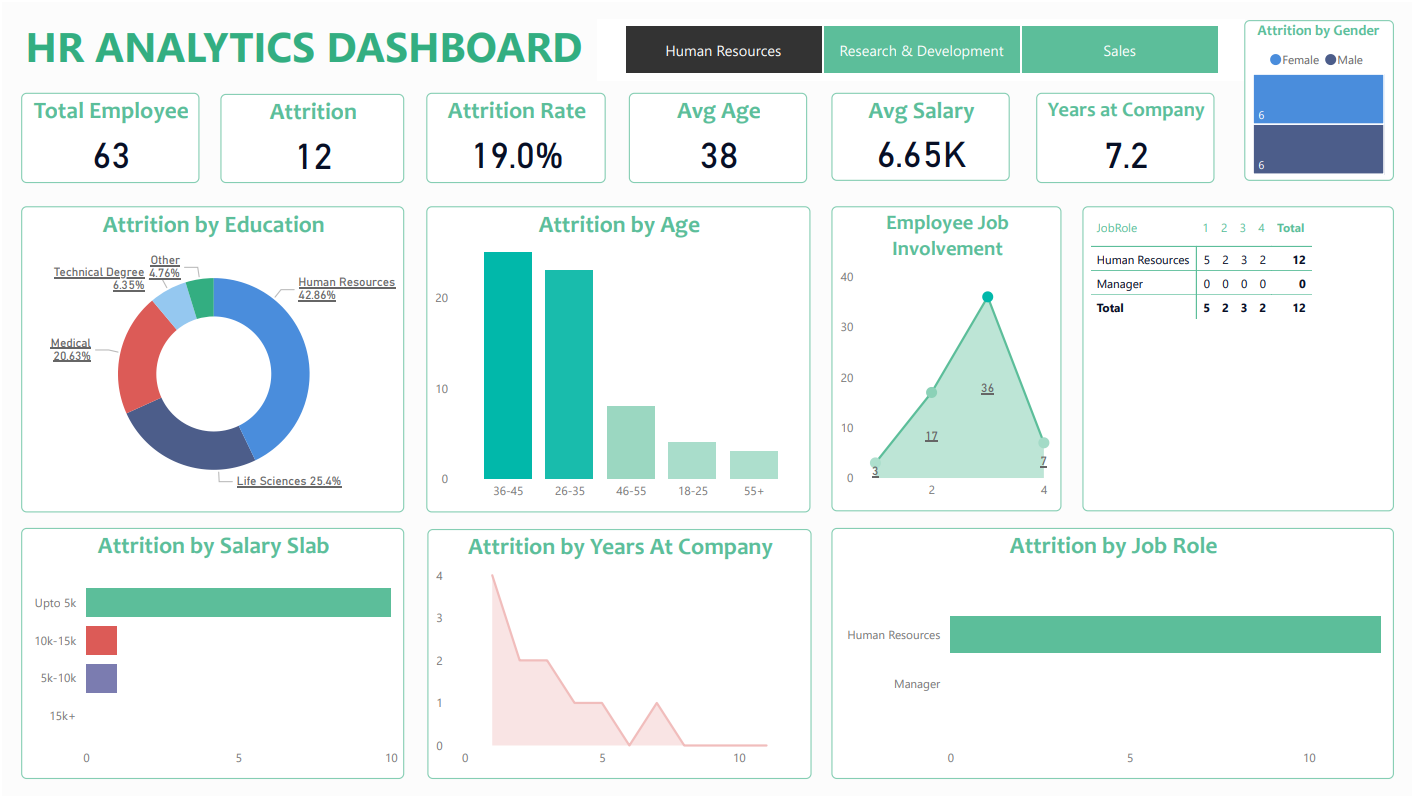

The page's visual inventory and layout, read from the dashboard file:
{"tool":"powerbi","page":{"name":"Page 1","canvas":[1280,720],"ordinal":0},"visuals":[{"type":"card","title":"Avg Salary","fields":{"Values":["Avg(HR_Analytics.MonthlyIncome)"]},"box":[752.7,81.8,162.4,80.6],"z":0},{"type":"card","title":"Avg Age","fields":{"Values":["Avg(HR_Analytics.Age)"]},"box":[569,81.8,162.4,81.8],"z":1000},{"type":"card","title":"Total Employee","fields":{"Values":["Sum(HR_Analytics.EmployeeCount)"]},"box":[16.8,81.8,162.4,81.8],"z":2000},{"type":"card","title":"Attrition","fields":{"Values":["Sum(HR_Analytics.AttritionCount)"]},"box":[198.3,82.9,166.9,80.6],"z":3000},{"type":"card","title":"Attrition Rate","fields":{"Values":["HR_Analytics.AttritionRate"]},"box":[385.3,81.8,162.4,81.8],"z":4000},{"type":"card","title":"Years at Company","fields":{"Values":["Avg(HR_Analytics.YearsAtCompany)"]},"box":[938.7,81.8,162.4,81.8],"z":5000},{"type":"textbox","box":[0,9,547.7,67.2],"z":6000},{"type":"slicer","fields":{"Values":["HR_Analytics.Department"]},"box":[539.9,14.6,588.1,56],"z":7000},{"type":"treemap","title":"Attrition by Gender","fields":{"Values":["Sum(HR_Analytics.AttritionCount)"],"Group":["HR_Analytics.Gender"]},"box":[1128,15.7,135.5,146.7],"z":8000},{"type":"donutChart","title":"Attrition by Education","fields":{"Category":["HR_Analytics.EducationField"],"Y":["CountNonNull(HR_Analytics.Attrition)"]},"box":[16.8,184.8,348.4,277.8],"z":9000},{"type":"clusteredColumnChart","title":"Attrition by Age","fields":{"Category":["HR_Analytics.AgeGroup"],"Y":["CountNonNull(HR_Analytics.Attrition)"]},"box":[385.3,184.8,348.4,277.8],"z":10000},{"type":"pivotTable","fields":{"Rows":["HR_Analytics.JobRole"],"Columns":["HR_Analytics.JobSatisfaction"],"Values":["Sum(HR_Analytics.AttritionCount)"]},"box":[981.2,184.9,282.7,276.8],"z":11000},{"type":"clusteredBarChart","title":"Attrition by Salary Slab","fields":{"Category":["HR_Analytics.SalarySlab"],"Y":["Sum(HR_Analytics.AttritionCount)"]},"box":[16.8,477.2,348.4,227.4],"z":12000},{"type":"areaChart","title":"Attrition by Years At Company","fields":{"Y":["Sum(HR_Analytics.AttritionCount)"],"Category":["HR_Analytics.YearsAtCompany"]},"box":[385.8,478,348.7,227.5],"z":13000},{"type":"clusteredBarChart","title":"Attrition by Job Role","fields":{"Y":["Sum(HR_Analytics.AttritionCount)"],"Category":["HR_Analytics.JobRole"]},"box":[752.7,477.2,510.8,227.4],"z":14000},{"type":"stackedAreaChart","title":"Employee Job Involvement","fields":{"Category":["HR_Analytics.JobInvolvement"],"Y":["Sum(HR_Analytics.EmployeeCount)"]},"box":[752.7,184.9,209.7,276.8],"z":15000}]}

Visuals, with their boxes in screenshot pixels (x1, y1, x2, y2), scaled from the page's 1280x720 canvas onto the 1415x799 screenshot:
"Avg Salary" card: box=[832, 91, 1012, 180]
"Avg Age" card: box=[629, 91, 809, 182]
"Total Employee" card: box=[19, 91, 198, 182]
"Attrition" card: box=[219, 92, 404, 181]
"Attrition Rate" card: box=[426, 91, 605, 182]
"Years at Company" card: box=[1038, 91, 1217, 182]
textbox: box=[0, 10, 605, 85]
slicer - HR_Analytics.Department: box=[597, 16, 1247, 78]
"Attrition by Gender" treemap: box=[1247, 17, 1397, 180]
"Attrition by Education" donutChart: box=[19, 205, 404, 513]
"Attrition by Age" clusteredColumnChart: box=[426, 205, 811, 513]
pivotTable - HR_Analytics.JobRole x HR_Analytics.JobSatisfaction: box=[1085, 205, 1397, 512]
"Attrition by Salary Slab" clusteredBarChart: box=[19, 530, 404, 782]
"Attrition by Years At Company" areaChart: box=[426, 530, 812, 783]
"Attrition by Job Role" clusteredBarChart: box=[832, 530, 1397, 782]
"Employee Job Involvement" stackedAreaChart: box=[832, 205, 1064, 512]
